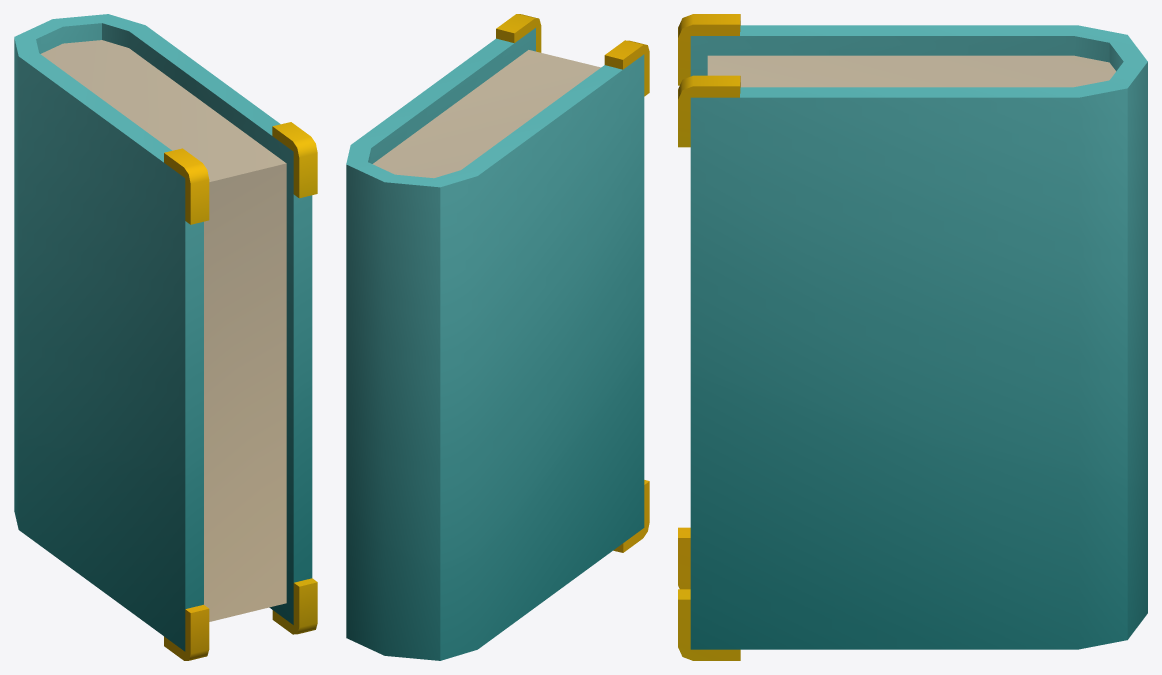
The model's file is Book_8.glb.
3 renders of one model, left to right at view 1: azimuth 30°, elevation 25°; view 2: azimuth 150°, elevation 25°; view 3: azimuth 270°, elevation 25°, orthographic. The views are drawn at different scales.
Visible parts, largest first — view 1: Book_8; view 2: Book_8; view 3: Book_8.
Boxes of the visible parts, left/top/right/bottom form: Book_8: left=14, top=14, right=317, bottom=660; Book_8: left=346, top=14, right=649, bottom=660; Book_8: left=678, top=14, right=1147, bottom=660.
Bounding box in the file's own units: 0.0417 × 0.1548 × 0.1147.
Materials: 1 (1 with a texture image).
